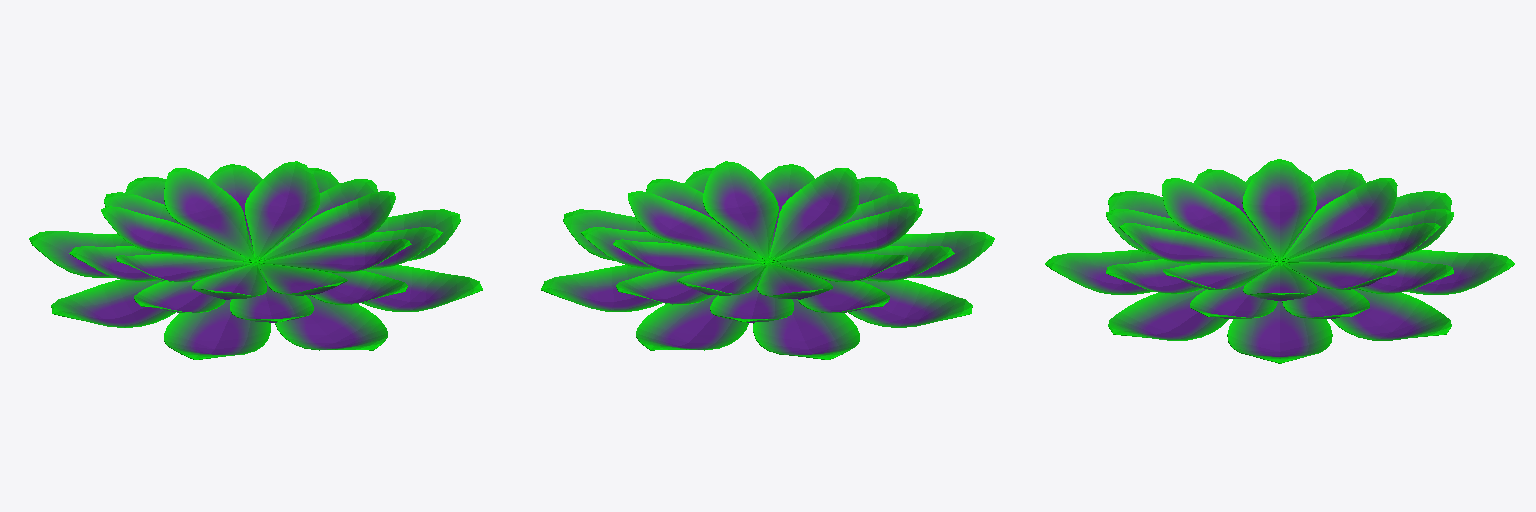
The picture shows the model from 3 angles: view 1: azimuth 30°, elevation 25°; view 2: azimuth 150°, elevation 25°; view 3: azimuth 270°, elevation 25°; orthographic projection.
Visible parts, largest first — view 1: BezierCurve_CUBezierCurve; view 2: BezierCurve_CUBezierCurve; view 3: BezierCurve_CUBezierCurve.
Boxes of the visible parts, x1=… form: BezierCurve_CUBezierCurve: x1=29, y1=161, x2=482, y2=359; BezierCurve_CUBezierCurve: x1=541, y1=161, x2=994, y2=359; BezierCurve_CUBezierCurve: x1=1045, y1=159, x2=1514, y2=363.
Size of the model in its own units: 7.75 by 1.06 by 7.75.
1 materials, 1 textured.